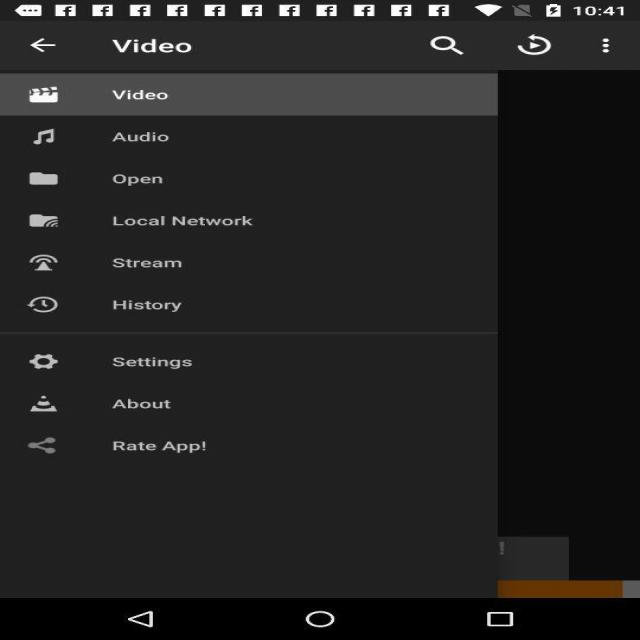button: (1, 158, 517, 202), (1, 114, 503, 157), (7, 283, 516, 325), (9, 383, 502, 425), (11, 340, 508, 380), (4, 424, 496, 463), (0, 71, 489, 110), (0, 244, 503, 281), (0, 204, 498, 241), (21, 35, 104, 65), (506, 30, 568, 64), (409, 32, 483, 57), (587, 27, 627, 57)
icon: (12, 166, 104, 202), (8, 252, 102, 275), (18, 208, 85, 238), (20, 348, 89, 377), (25, 289, 82, 322), (24, 121, 77, 155), (25, 390, 76, 414), (27, 83, 70, 110), (19, 434, 69, 453)
text: (91, 208, 305, 236), (83, 248, 219, 281), (84, 431, 263, 455), (107, 346, 239, 376), (99, 165, 208, 200), (103, 120, 211, 153), (101, 34, 239, 59), (101, 288, 217, 317), (109, 393, 213, 416), (106, 82, 178, 107)
